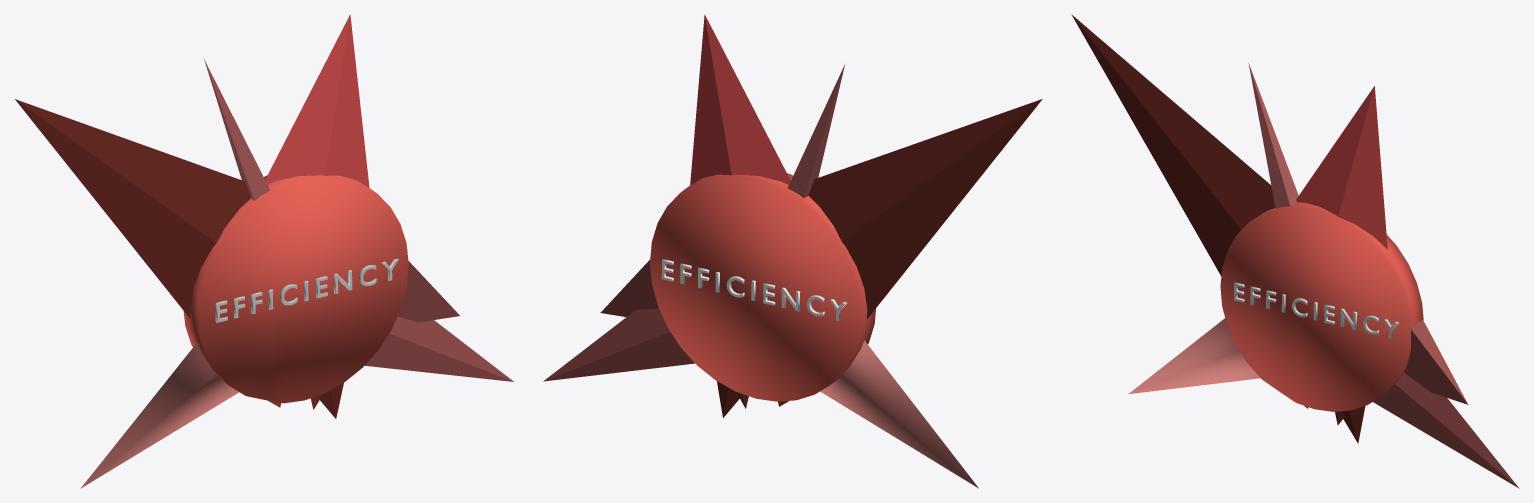
File: economyspark_red.glb
3 renders of one model, left to right at view 1: azimuth 30°, elevation 25°; view 2: azimuth 150°, elevation 25°; view 3: azimuth 330°, elevation 25°, orthographic. The views are drawn at different scales.
Parts seen in each view (by area): view 1: Circle, Cone.006, Cone.001, Cone.003, Cone.005, Cone.002, Cone, Efficiency Spark; view 2: Circle, Cone.006, Cone.001, Cone.003, Cone.005, Cone, Efficiency Spark.001, Cone.002; view 3: Circle, Cone.006, Cone.001, Cone.005, Cone.003, Cone.002, Cone, Efficiency Spark, Cone.004.
Boxes of the visible parts, x1,y1,x2,y2 form: Circle: [183, 175, 408, 403]; Cone.006: [15, 99, 250, 318]; Cone.001: [265, 14, 369, 187]; Cone.003: [81, 343, 238, 488]; Cone.005: [247, 278, 513, 381]; Cone.002: [397, 261, 459, 322]; Cone: [204, 59, 270, 200]; Efficiency Spark: [215, 258, 398, 322]; Circle: [650, 173, 875, 401]; Cone.006: [808, 99, 1042, 318]; Cone.001: [690, 14, 790, 185]; Cone.003: [820, 340, 978, 488]; Cone.005: [543, 308, 694, 381]; Cone: [788, 64, 844, 197]; Efficiency Spark.001: [661, 259, 846, 320]; Cone.002: [600, 259, 658, 317]; Circle: [1220, 202, 1423, 411]; Cone.006: [1071, 14, 1275, 275]; Cone.001: [1296, 86, 1387, 249]; Cone.005: [1265, 274, 1519, 488]; Cone.003: [1128, 318, 1260, 394]; Cone.002: [1404, 320, 1468, 404]; Cone: [1248, 63, 1298, 208]; Efficiency Spark: [1234, 282, 1398, 338]; Cone.004: [1343, 406, 1365, 443].
Bounding box in the file's own units: 20.31 × 15.86 × 1.5.
